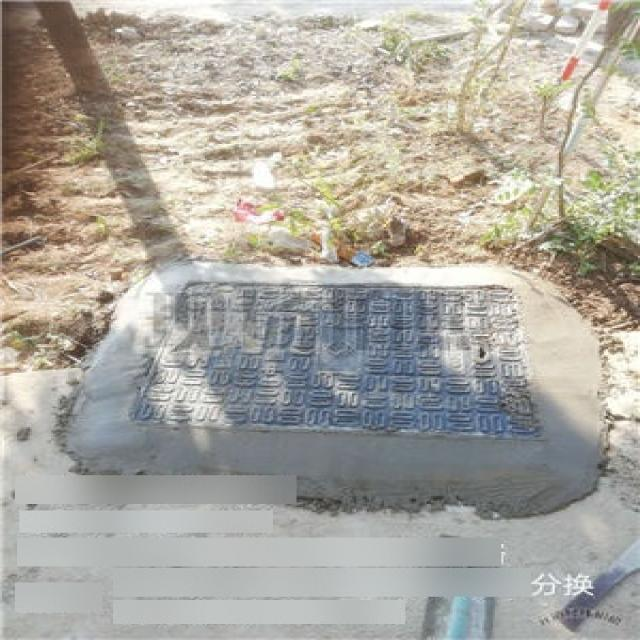Good: (124, 274, 546, 434)
